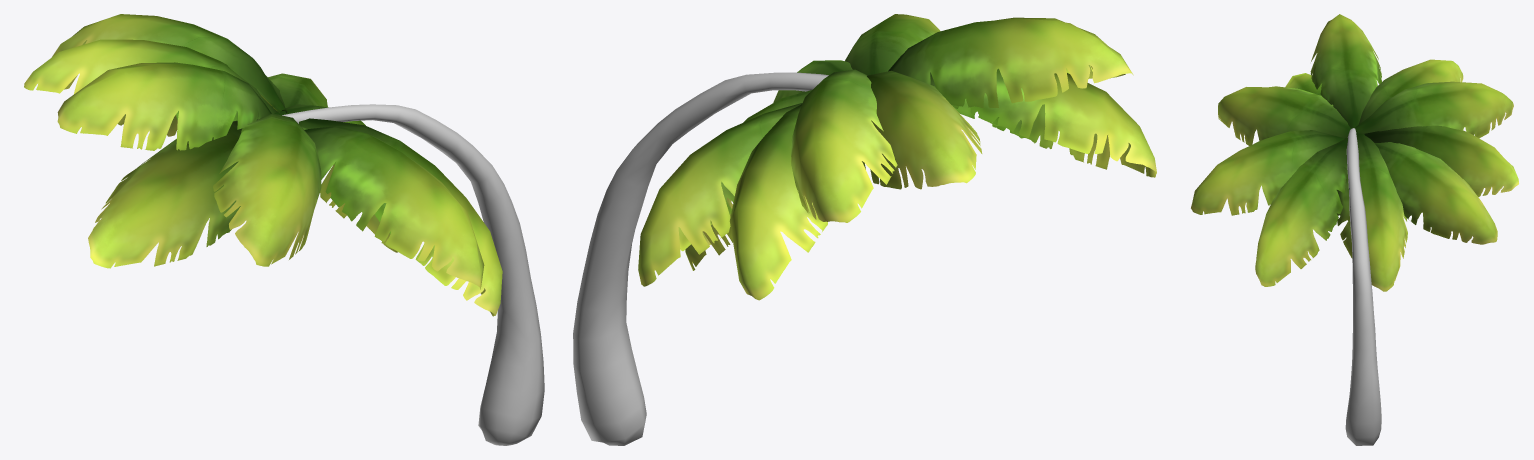
File: Mode_parasol.fbx
3 views of the same model, side by side, from view 1: azimuth 30°, elevation 25°; view 2: azimuth 150°, elevation 25°; view 3: azimuth 270°, elevation 25° (orthographic). The views are drawn at different scales.
Visible parts, largest first — view 1: feuilles1, cote_parasol; view 2: feuilles1, cote_parasol; view 3: feuilles1, cote_parasol.
Part boxes in pixels (x1,y1,x2,y2): feuilles1: [24, 14, 502, 316]; cote_parasol: [282, 104, 544, 445]; feuilles1: [638, 14, 1156, 300]; cote_parasol: [573, 72, 828, 445]; feuilles1: [1191, 14, 1518, 291]; cote_parasol: [1345, 128, 1381, 445].
Bounding box in the file's own units: 334 × 300 × 299.
